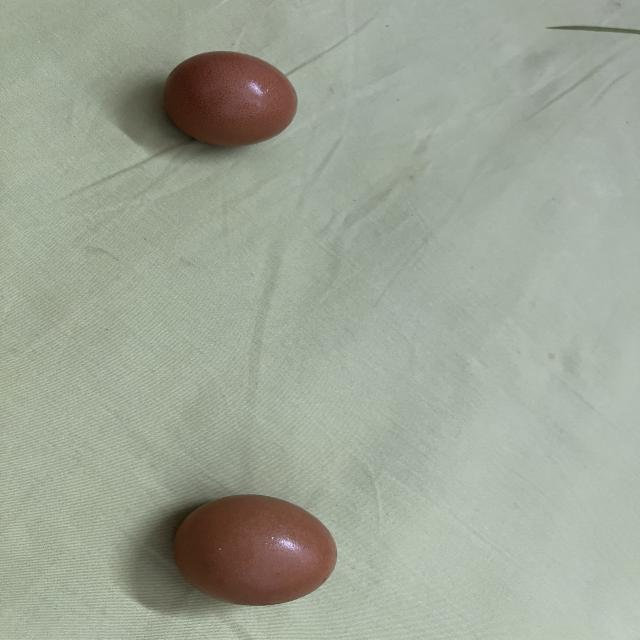Egg: (171, 487, 343, 606), (158, 47, 302, 148)
